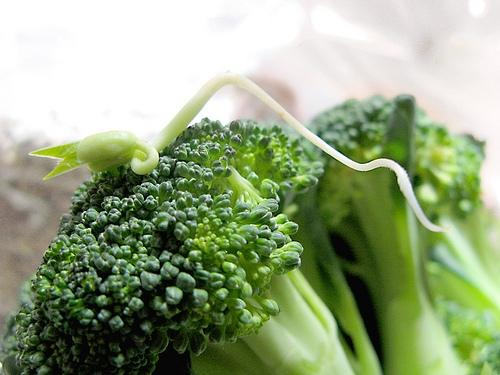broccoli: (12, 117, 353, 374), (299, 93, 463, 373), (411, 104, 500, 320), (432, 293, 500, 375)
